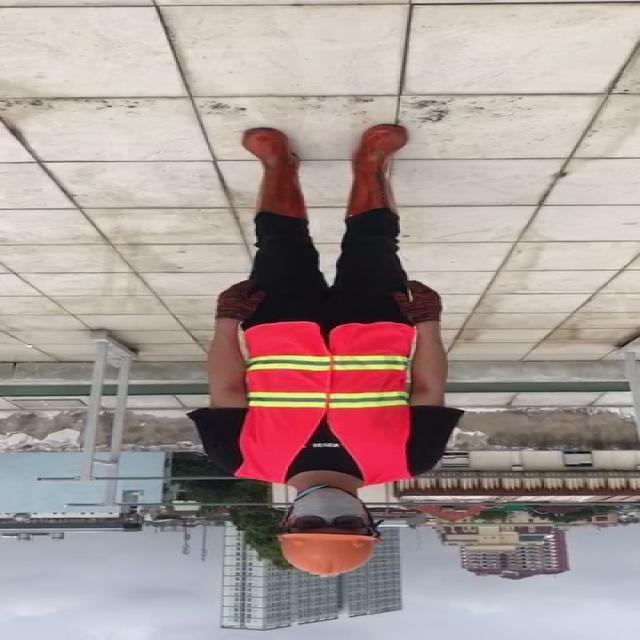gloves: (208, 279, 276, 322), (386, 279, 449, 320)
